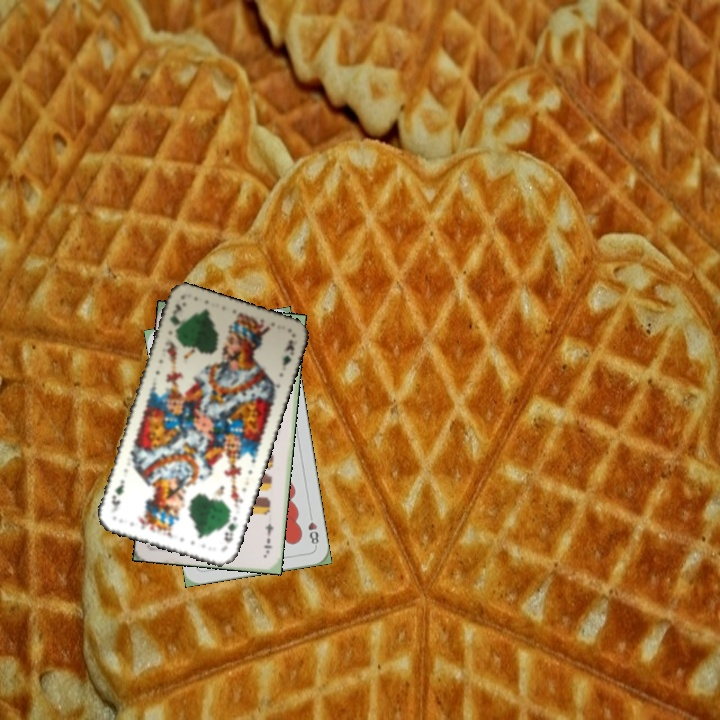E7: (260, 519, 276, 556)
GK: (220, 511, 239, 546), (166, 299, 184, 328)
H8: (304, 509, 321, 549)
